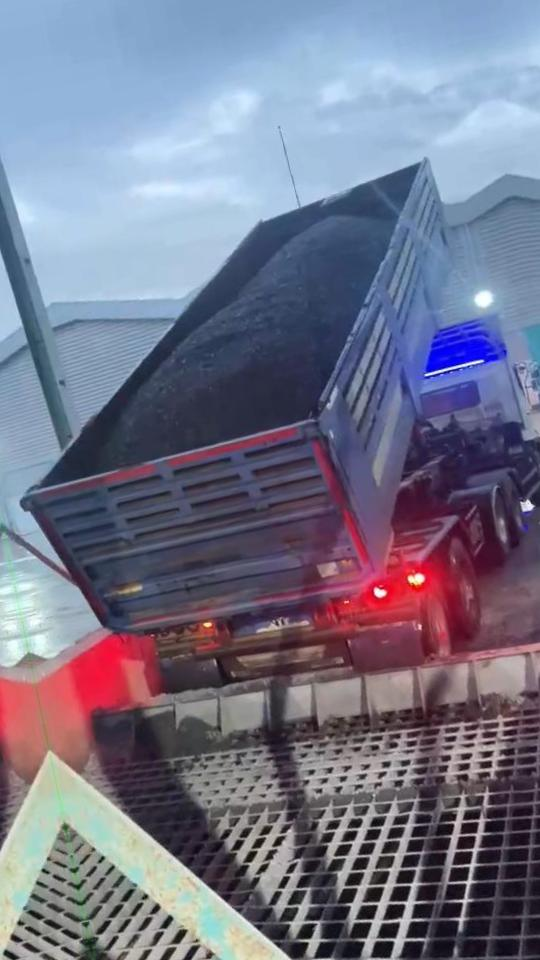gravel: (98, 215, 394, 470)
